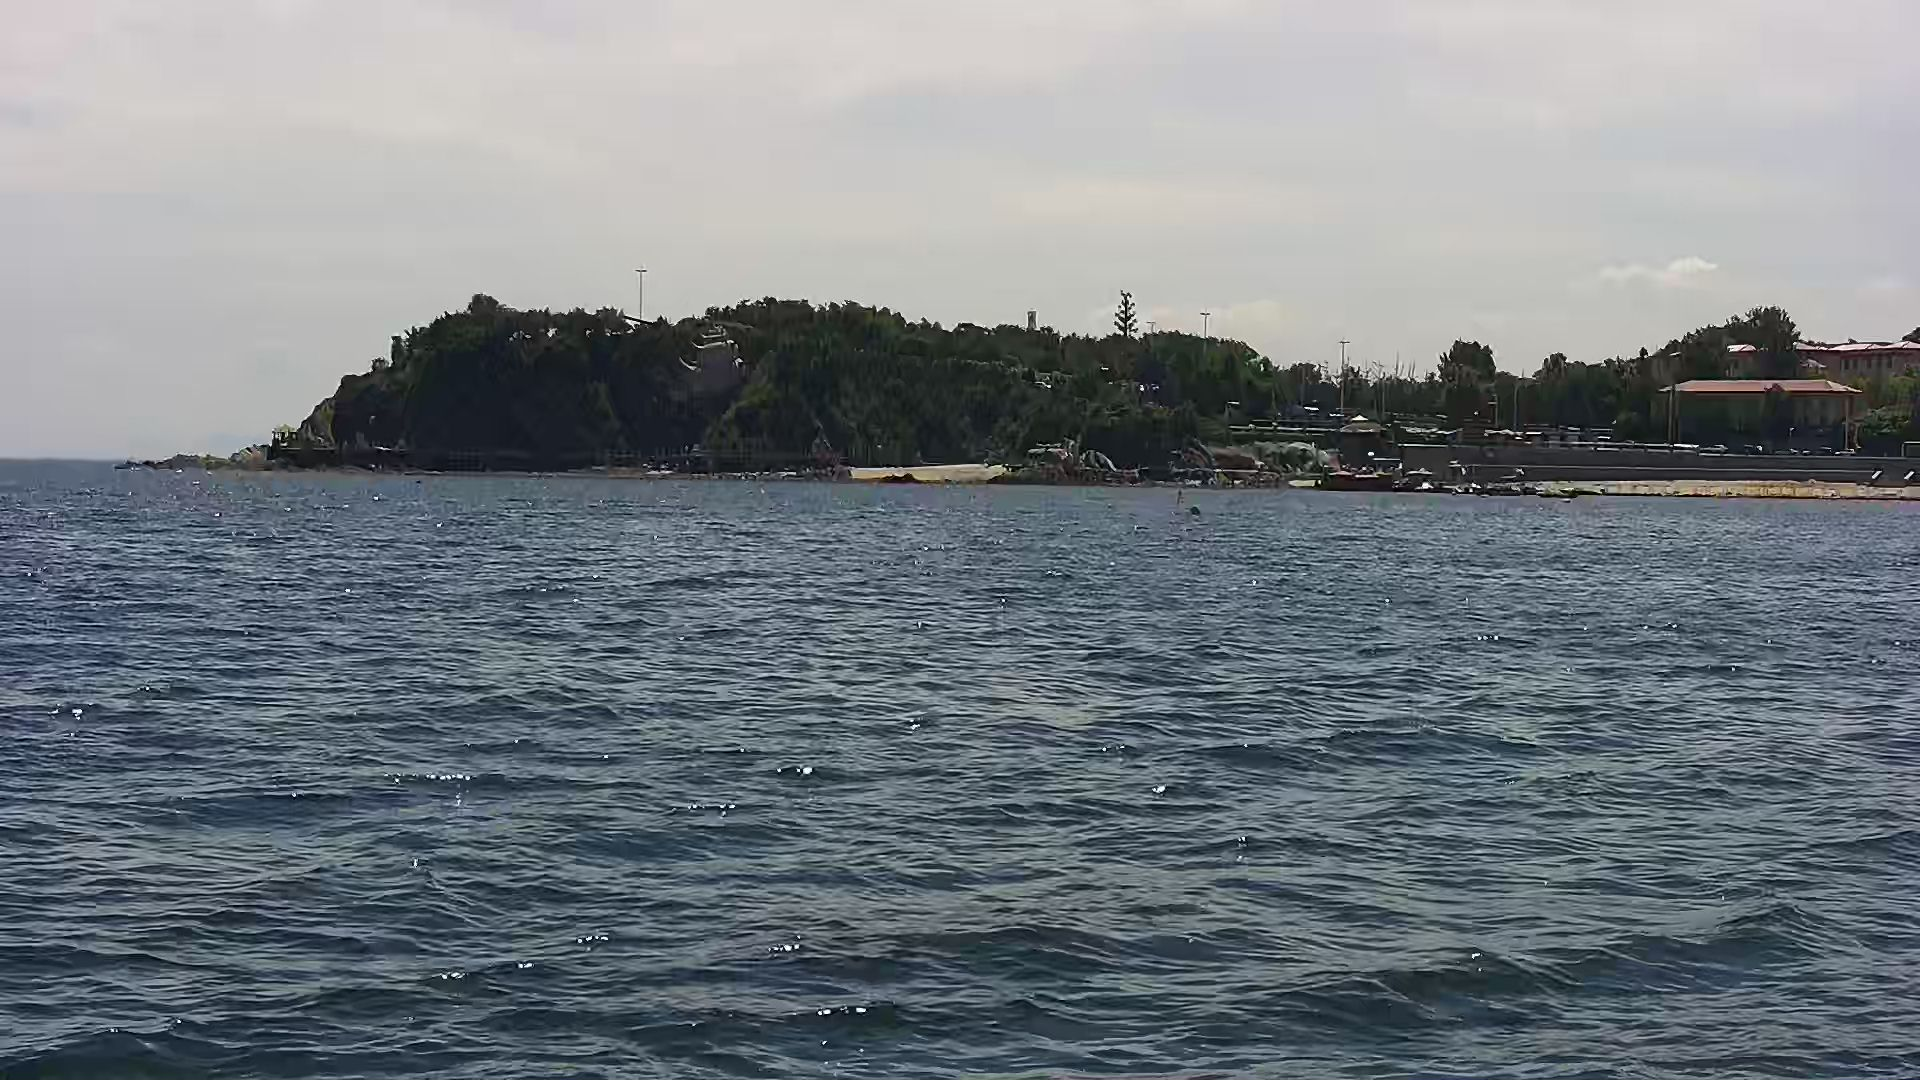boat: (1309, 462, 1429, 489)
rubbish: (1185, 496, 1203, 524)
